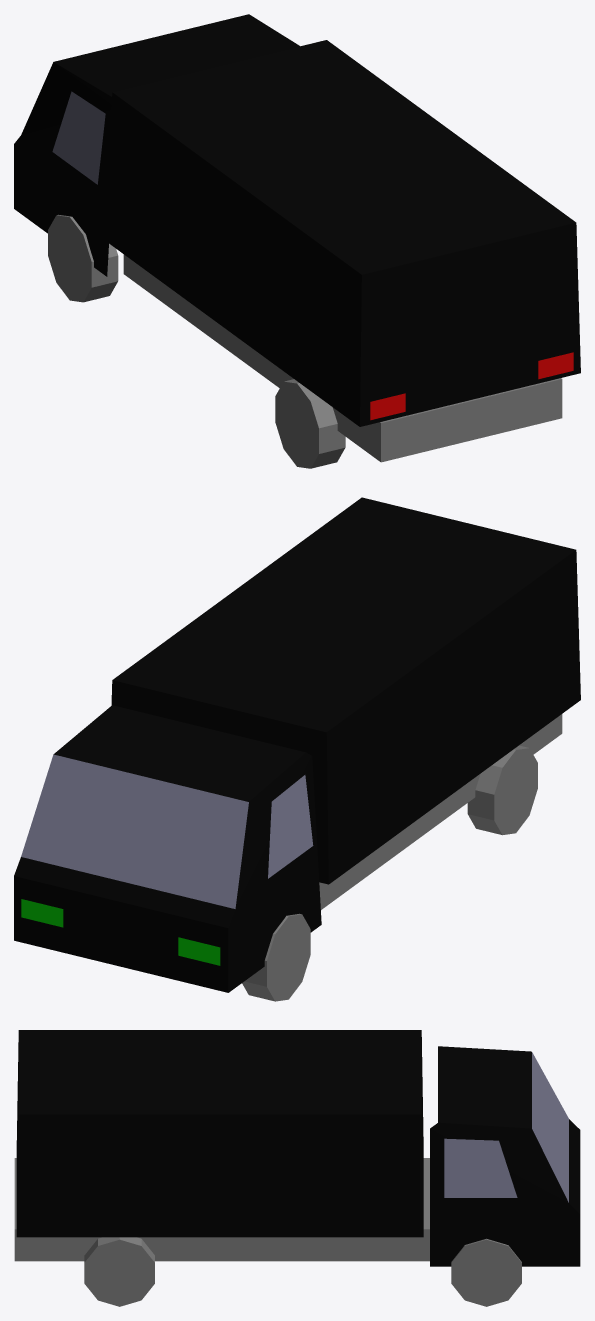
File: veh_lcv.glb
3 views of the same model, one above another, from view 1: azimuth 30°, elevation 25°; view 2: azimuth 150°, elevation 25°; view 3: azimuth 270°, elevation 25° (orthographic). The views are drawn at different scales.
Visible parts, largest first — view 1: veh_lcv; view 2: veh_lcv; view 3: veh_lcv.
Boxes of the visible parts, bbox=[...] form: veh_lcv: bbox=[14, 14, 580, 468]; veh_lcv: bbox=[14, 497, 580, 1001]; veh_lcv: bbox=[14, 1030, 580, 1306].
Bounding box in the file's own units: 2 × 2.05 × 5.5.
